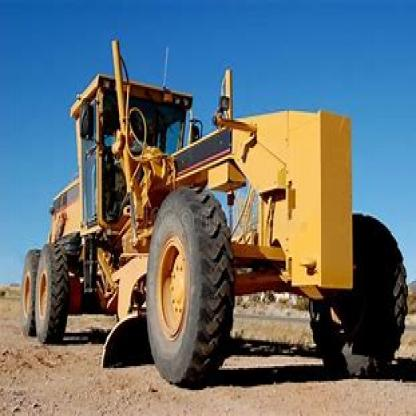bull_dozer/loader/grader: (24, 68, 412, 383)
